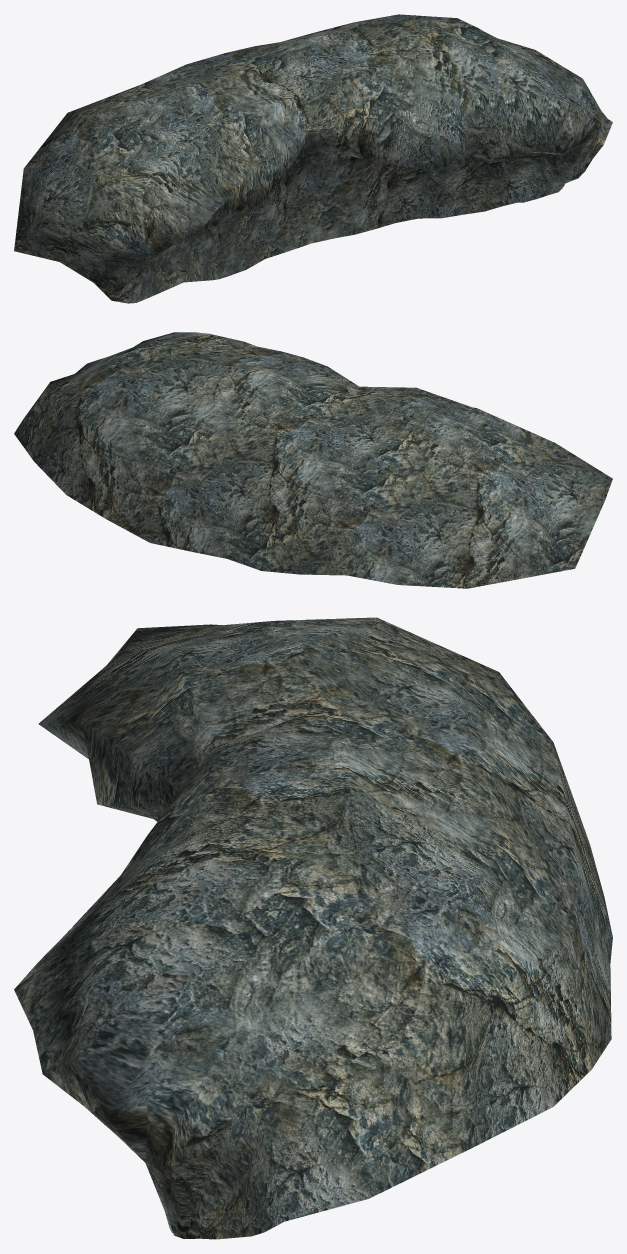
File: rockBlobFive.fbx
3 views of the same model, one above another, from view 1: azimuth 30°, elevation 25°; view 2: azimuth 150°, elevation 25°; view 3: azimuth 270°, elevation 25° (orthographic). The views are drawn at different scales.
Visible parts, largest first — view 1: pPlane3; view 2: pPlane3; view 3: pPlane3.
Boxes of the visible parts, left/top/right/bottom form: pPlane3: left=14, top=14, right=612, bottom=303; pPlane3: left=14, top=332, right=612, bottom=588; pPlane3: left=14, top=617, right=612, bottom=1239.
Size of the model in its own units: 121 by 58.8 by 36.1.
